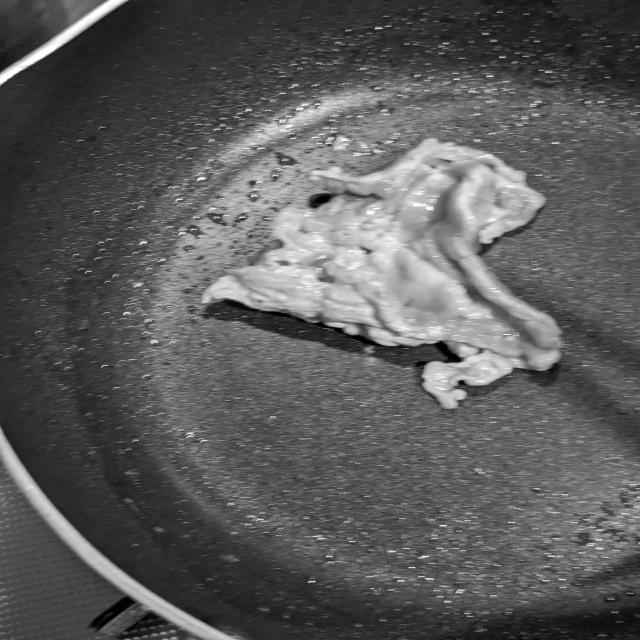NG undercooked pork,: (188, 140, 567, 417)
